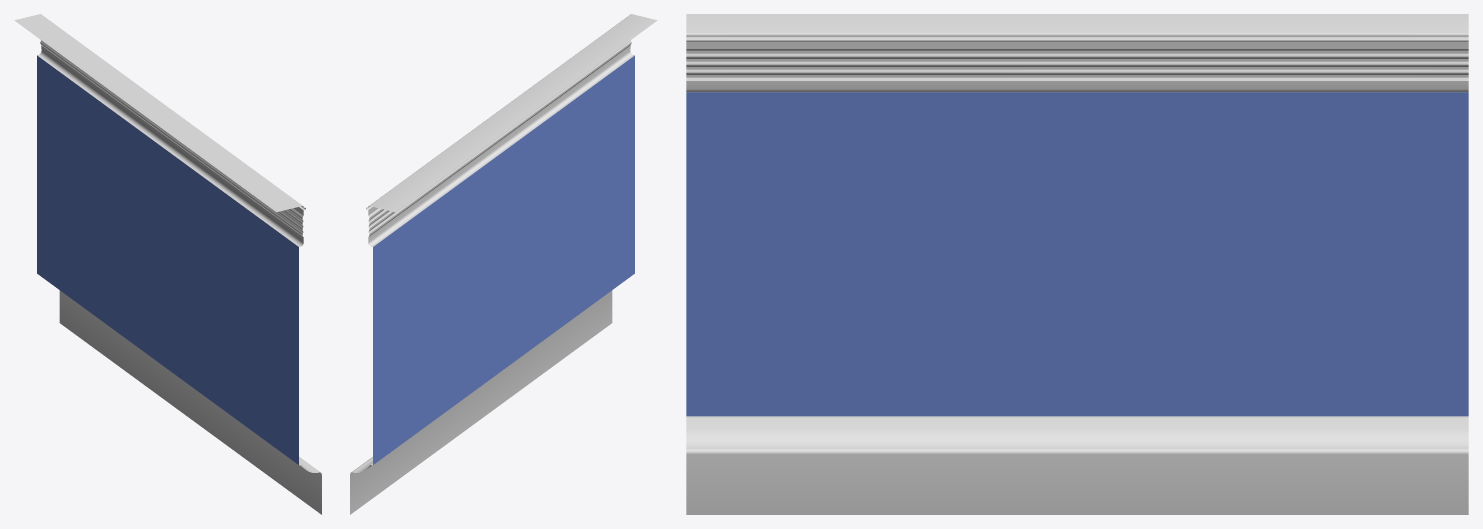
File: Pared-Modular_DecInferior.fbx
3 renders of one model, left to right at view 1: azimuth 30°, elevation 25°; view 2: azimuth 150°, elevation 25°; view 3: azimuth 270°, elevation 25°, orthographic. The views are drawn at different scales.
Visible parts, largest first — view 1: Decoracion-Pared-Inf; view 2: Decoracion-Pared-Inf; view 3: Decoracion-Pared-Inf.
Boxes of the visible parts, bbox=[...] form: Decoracion-Pared-Inf: bbox=[14, 14, 321, 514]; Decoracion-Pared-Inf: bbox=[350, 14, 657, 514]; Decoracion-Pared-Inf: bbox=[686, 14, 1468, 514].
Bounding box in the file's own units: 20 × 132 × 200.
